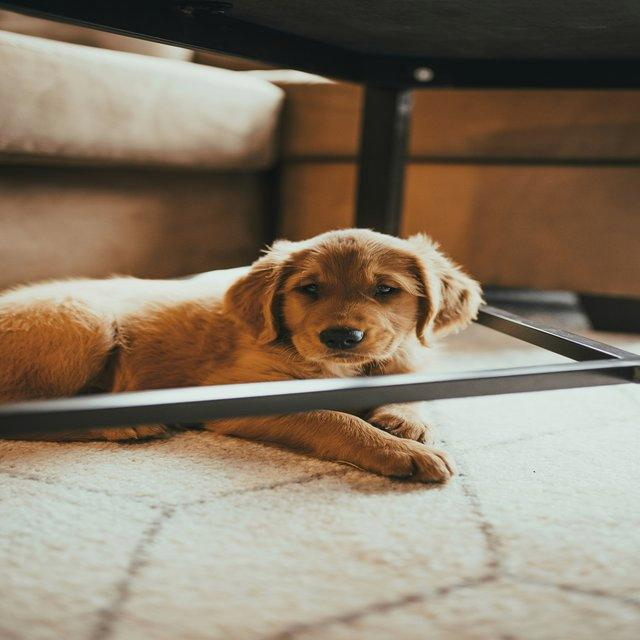retriever: (0, 225, 486, 485)
